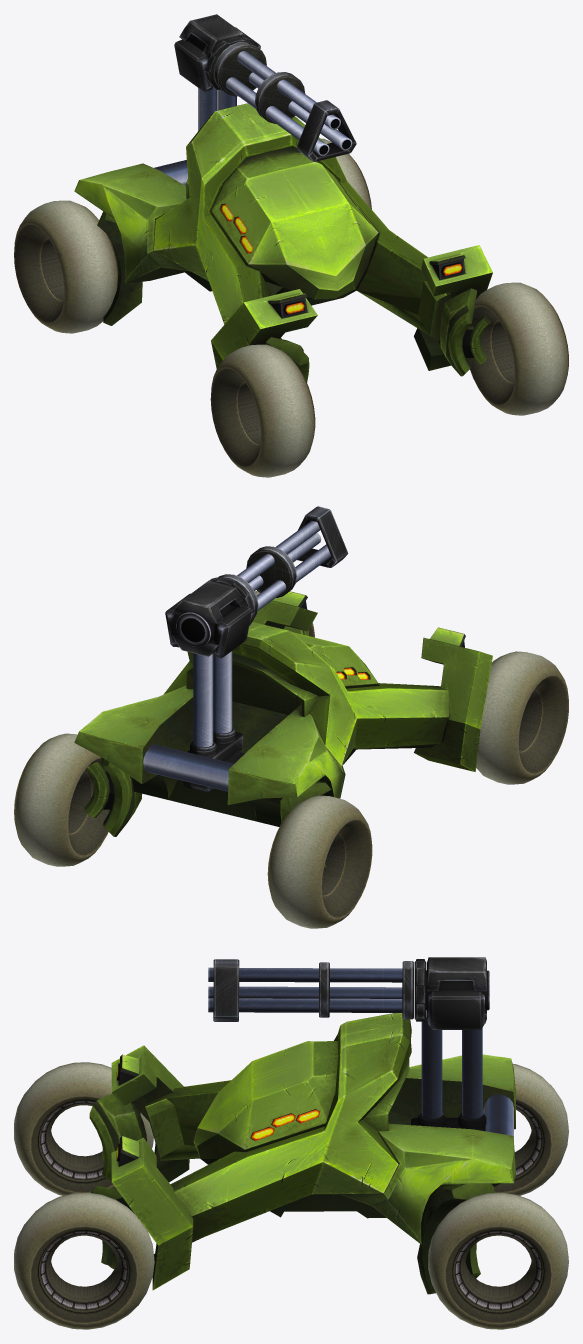
The model's file is Quad_Bike.FBX.
3 views of the same model, one above another, from view 1: azimuth 30°, elevation 25°; view 2: azimuth 150°, elevation 25°; view 3: azimuth 270°, elevation 25° (orthographic). The views are drawn at different scales.
Visible parts, largest first — view 1: Quad_Bike, Wheel-1, Wheel-3, Gun, Wheel-2, Wheel-4; view 2: Quad_Bike, Wheel-3, Gun, Wheel-1, Wheel-4; view 3: Quad_Bike, Gun, Wheel-4, Wheel-2, Wheel-1, Wheel-3.
Boxes of the visible parts, <box> form: Quad_Bike: <box>74,87,492,382</box>; Wheel-1: <box>210,344,315,477</box>; Wheel-3: <box>14,200,118,333</box>; Gun: <box>174,14,356,161</box>; Wheel-2: <box>469,282,568,415</box>; Wheel-4: <box>321,138,371,209</box>; Quad_Bike: <box>74,591,492,867</box>; Wheel-3: <box>267,795,372,928</box>; Gun: <box>165,506,348,658</box>; Wheel-1: <box>476,651,568,784</box>; Wheel-4: <box>14,733,109,866</box>; Quad_Bike: <box>89,1010,515,1294</box>; Gun: <box>208,957,489,1029</box>; Wheel-4: <box>428,1192,568,1329</box>; Wheel-2: <box>14,1192,154,1329</box>; Wheel-1: <box>14,1062,153,1195</box>; Wheel-3: <box>494,1064,568,1195</box>.
Size of the model in its own units: 63.56 by 56.11 by 94.2.
Materials: 1 (1 with a texture image).
